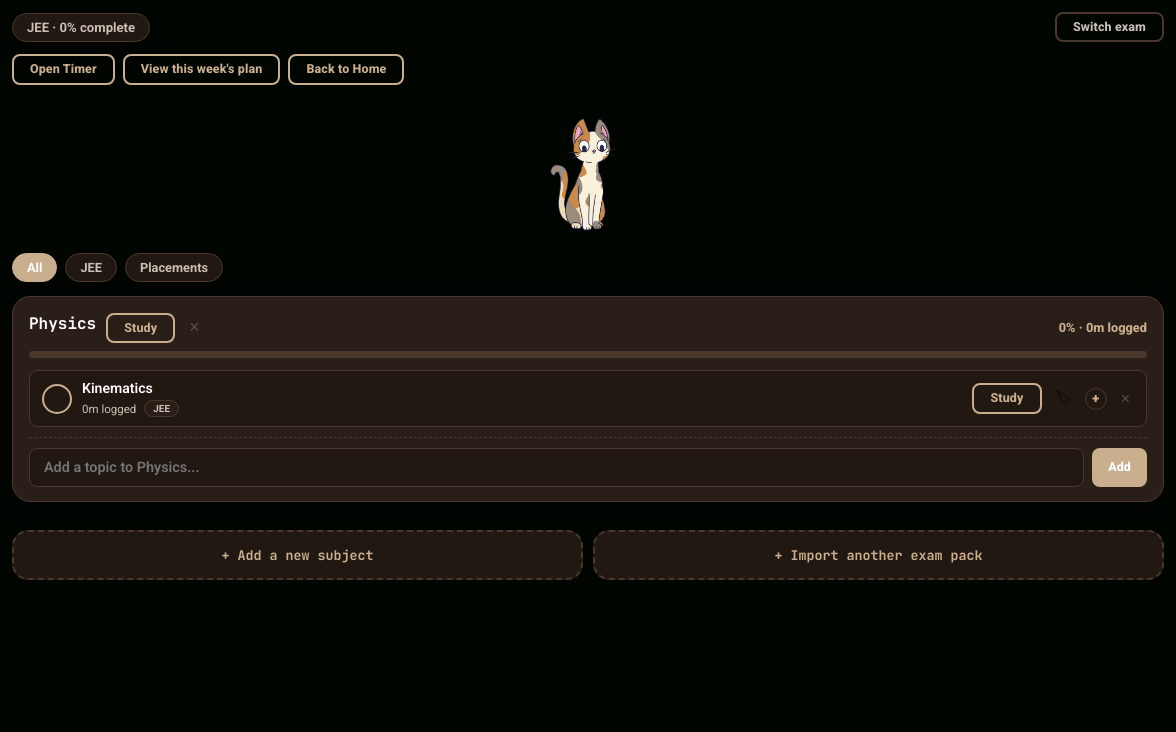
it: PortionTracker — deleting a section › removes the whole subject once the deletion is confirmed
Check: the text "Kinematics" is shown, box x1=82 y1=380 x2=153 y2=396
Click the button named "Delete Physics": (194, 328) x1=185 y1=315 x2=204 y2=341
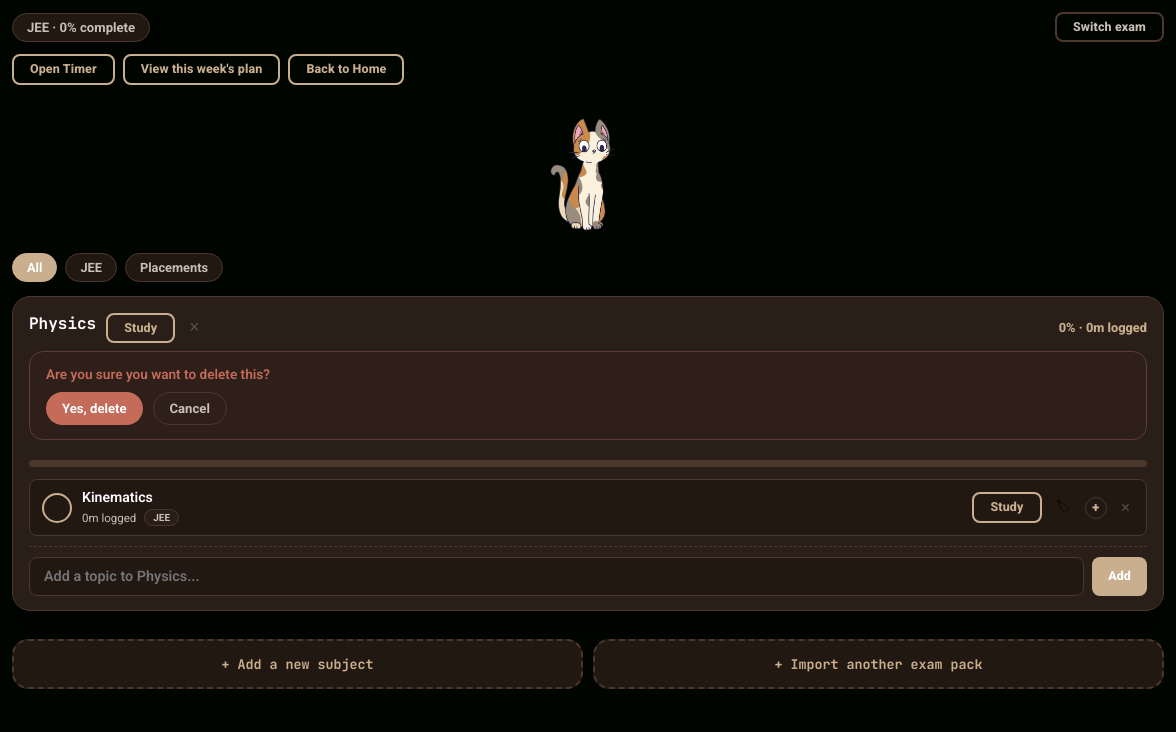
Click the button "Yes, delete": (94, 408) x1=46 y1=392 x2=142 y2=425
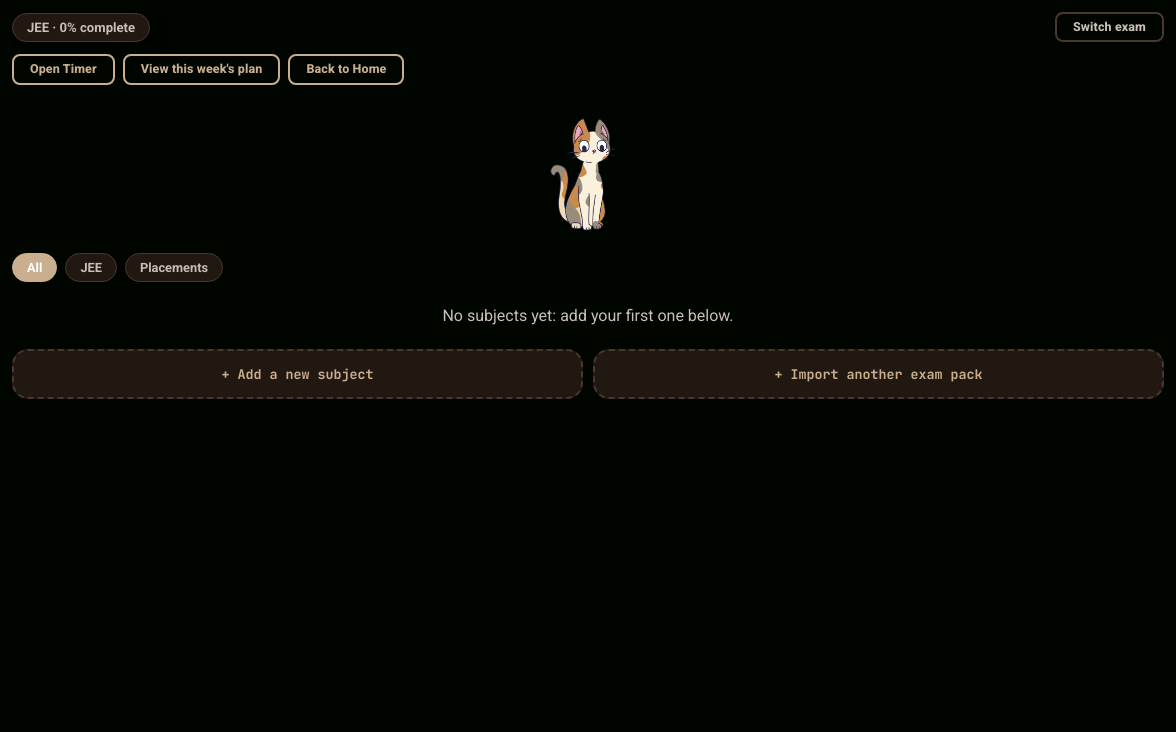
Check: the heading "Physics" is gone
Check: the text "Kinematics" is gone
